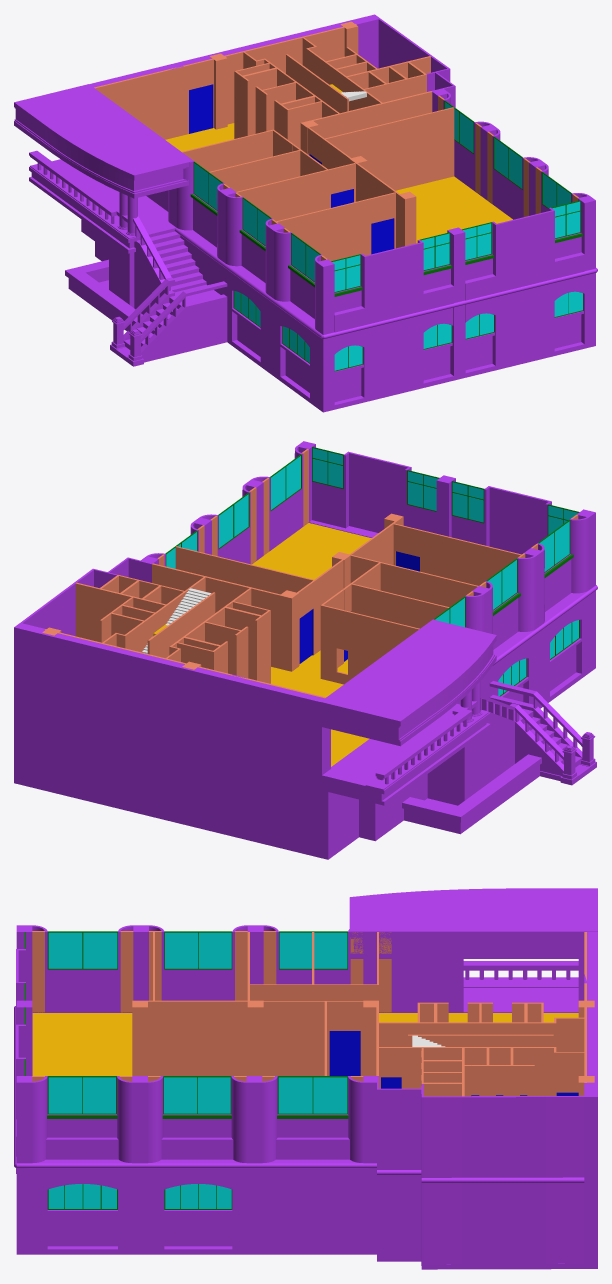
The picture shows the model from 3 angles, top to bottom: view 1: azimuth 30°, elevation 25°; view 2: azimuth 150°, elevation 25°; view 3: azimuth 270°, elevation 25°; orthographic projection. The views are drawn at different scales.
Visible parts, largest first — view 1: 物件_343, 物件_563, 物件_2, 物件_96, 物件_119, 物件_126, 物件_34, 物件_50, 物件_215, 物件_359, 物件_541, 物件_356 (+77 smaller); view 2: 物件_551, 物件_525, 物件_563, 物件_96, 物件_2, 物件_126, 物件_541, 物件_119, 物件_359, 物件_526, 物件_562, 物件_343 (+57 smaller); view 3: 物件_191, 物件_92, 物件_78, 物件_563, 物件_351, 物件_96, 物件_342, 物件_2, 物件_541, 物件_79, 物件_1, 物件_432 (+72 smaller).
Boxes of the visible parts, left/top/right/bottom form: 物件_343: left=325, top=107, right=454, bottom=190; 物件_563: left=42, top=105, right=193, bottom=179; 物件_2: left=234, top=58, right=329, bottom=148; 物件_96: left=165, top=123, right=512, bottom=243; 物件_119: left=361, top=239, right=423, bottom=324; 物件_126: left=492, top=207, right=554, bottom=292; 物件_34: left=361, top=315, right=423, bottom=397; 物件_50: left=492, top=283, right=554, bottom=365; 物件_215: left=94, top=64, right=188, bottom=139; 物件_359: left=276, top=199, right=369, bottom=261; 物件_541: left=68, top=227, right=595, bottom=412; 物件_356: left=236, top=169, right=329, bottom=221; 物件_551: left=14, top=623, right=324, bottom=778; 物件_525: left=14, top=704, right=320, bottom=852; 物件_563: left=351, top=619, right=496, bottom=703; 物件_96: left=252, top=523, right=371, bottom=766; 物件_2: left=169, top=595, right=270, bottom=683; 物件_126: left=343, top=451, right=411, bottom=532; 物件_541: left=14, top=663, right=596, bottom=859; 物件_119: left=484, top=486, right=551, bottom=554; 物件_359: left=422, top=530, right=521, bottom=585; 物件_526: left=320, top=704, right=490, bottom=794; 物件_562: left=320, top=679, right=431, bottom=726; 物件_343: left=175, top=546, right=313, bottom=594; 物件_191: left=423, top=1095, right=584, bottom=1177; 物件_92: left=423, top=1183, right=584, bottom=1264; 物件_78: left=232, top=1168, right=376, bottom=1249; 物件_563: left=349, top=888, right=529, bottom=937; 物件_351: left=148, top=1000, right=247, bottom=1075; 物件_96: left=32, top=1013, right=578, bottom=1075; 物件_342: left=263, top=1001, right=326, bottom=1075; 物件_2: left=401, top=1002, right=556, bottom=1046; 物件_541: left=16, top=1246, right=597, bottom=1269; 物件_79: left=118, top=1168, right=164, bottom=1249; 物件_1: left=401, top=1047, right=556, bottom=1095; 物件_432: left=379, top=1088, right=421, bottom=1169.
Size of the model in its own units: 1552 by 546 by 1677.
